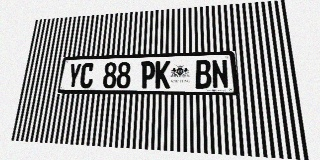8: (102, 62, 118, 88), (116, 62, 131, 88)
B: (195, 60, 212, 89)
C: (79, 63, 95, 88)
K: (155, 61, 170, 89)
N: (211, 59, 229, 89)
P: (140, 61, 155, 89)
Y: (66, 63, 82, 88)
